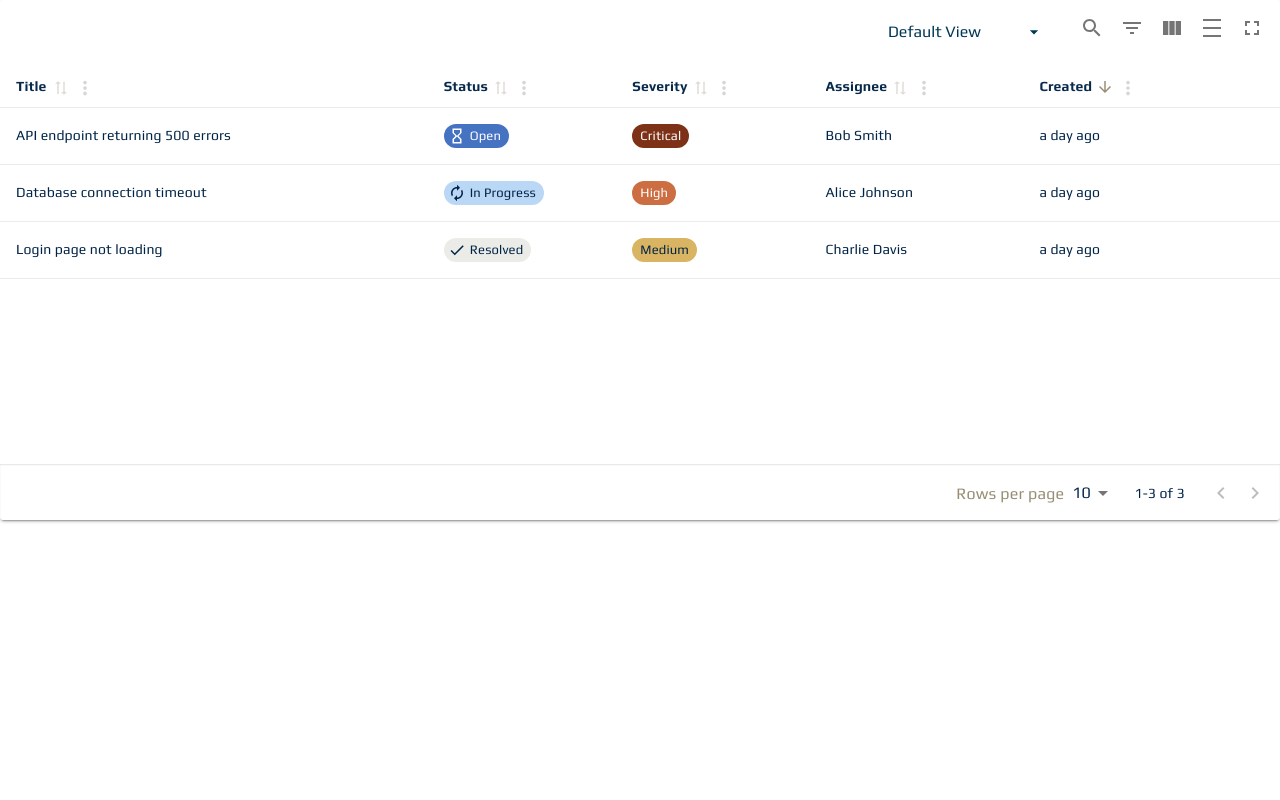
Test case: Saved Views Integration Tests › Component Integration (T036, T038) › closes SaveViewPanel when cancel is clicked
The width and height of the screenshot is (1280, 800).
Expected: the text "Database connection timeout" is shown, [0,165,428,222]
// Open save view panel
Click the button "Default View": click(964, 32) [864,8,1064,56]
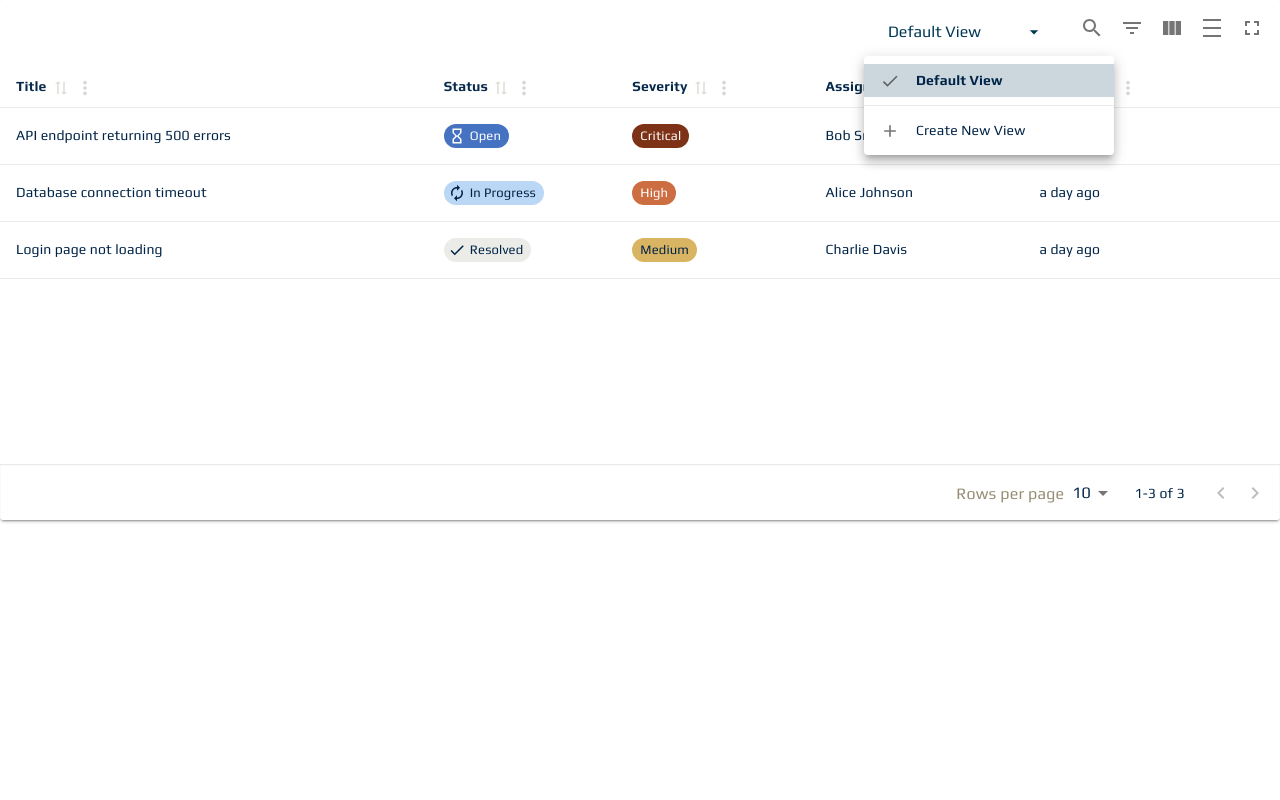
Click the menu item "Create New View": click(953, 130) [880,120,1026,140]
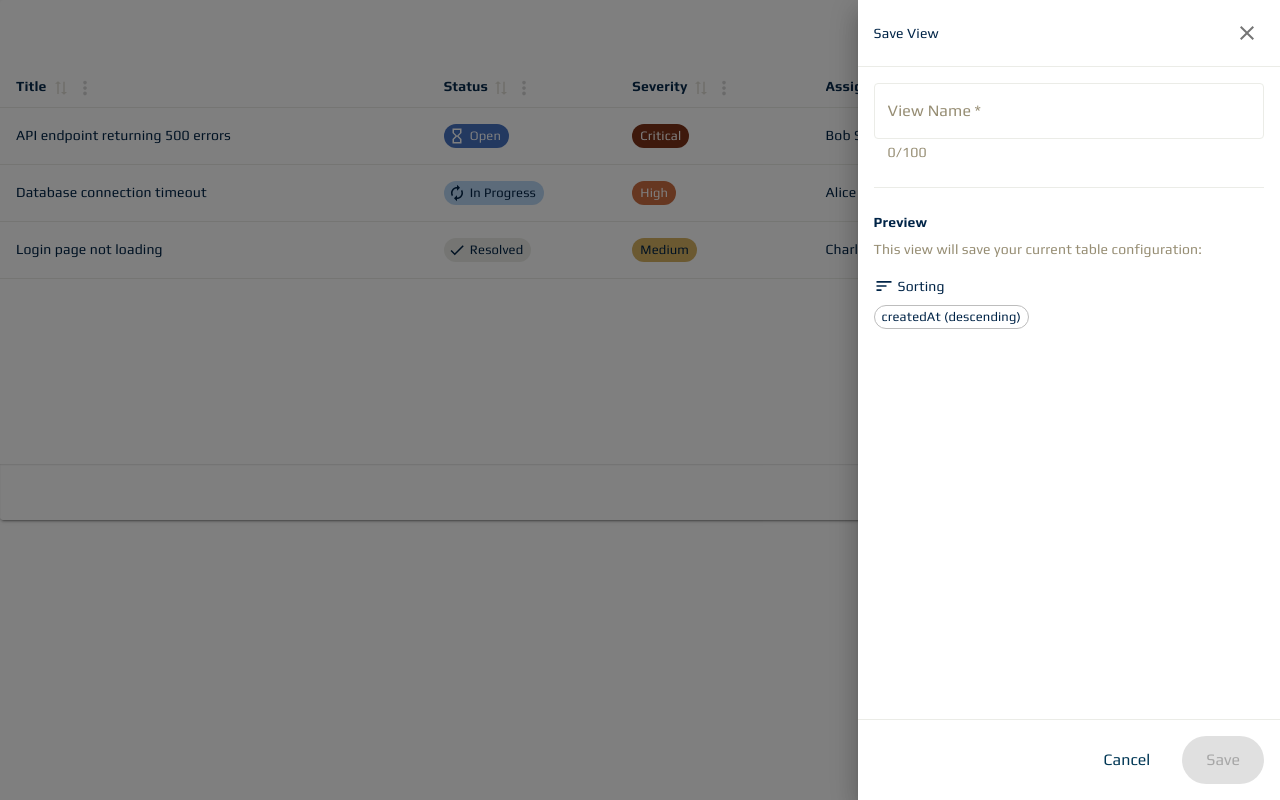
Expected: the heading "Save View" is shown, [874,25,939,41]
// Click cancel
Click the button "Cancel": click(1127, 760) [1080,736,1174,784]
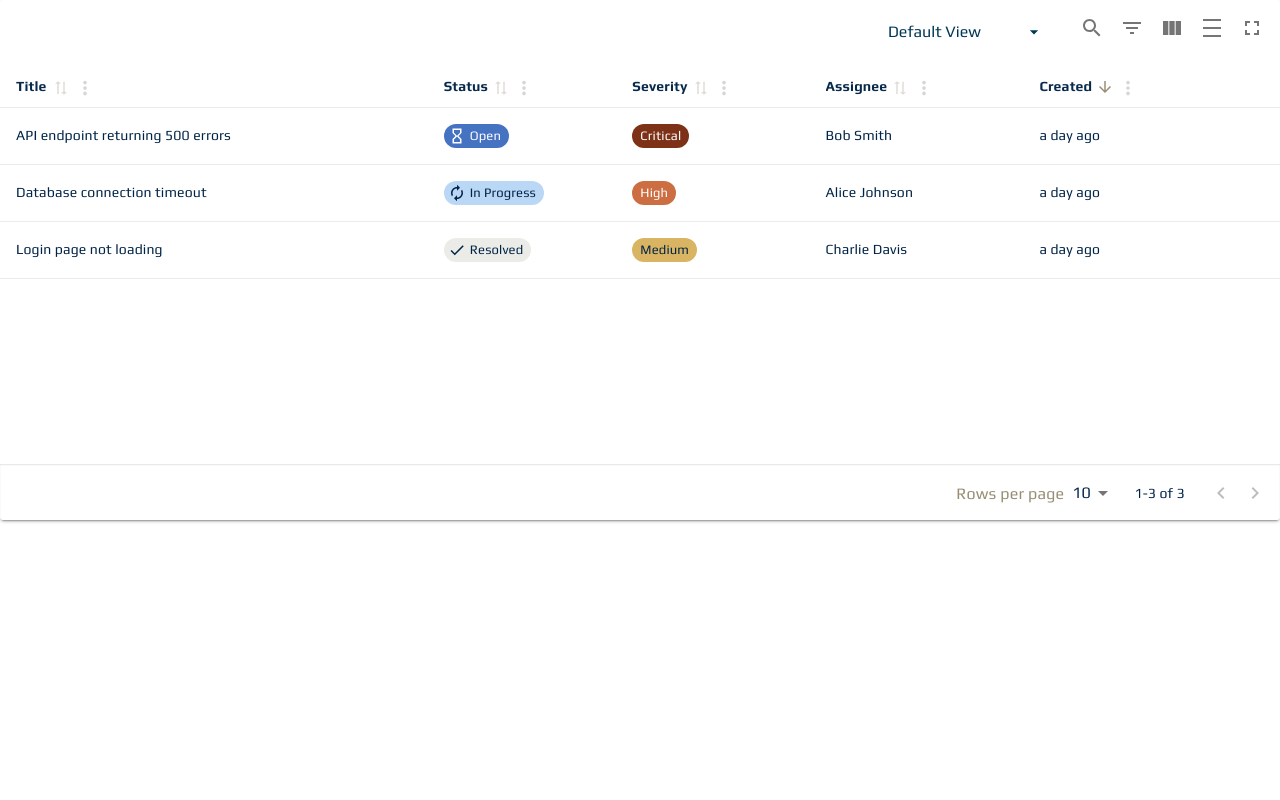
Expected: the heading "Save View" is gone
